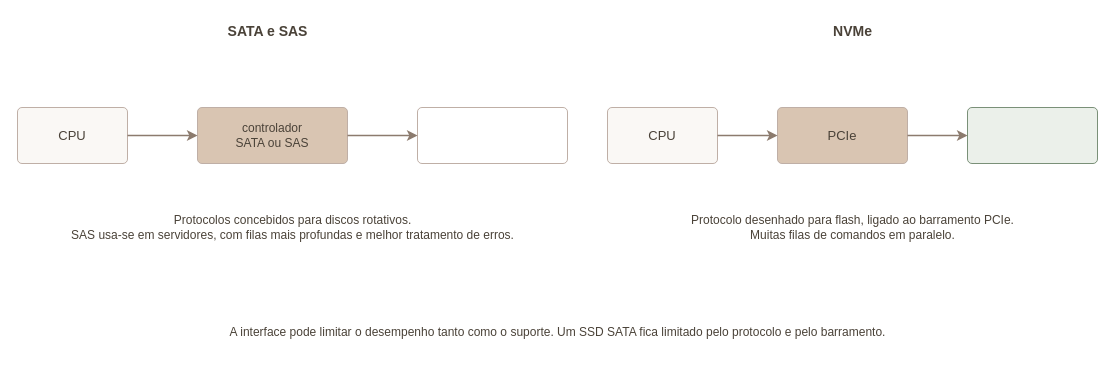
This 1115x374 diagram has some shape labels left out. The box of each missing label's shape, as (x1, y1, x2, y2) in pixels:
HDD ou SSD: (416, 106, 568, 164)
SSD NVMe: (966, 106, 1098, 164)
